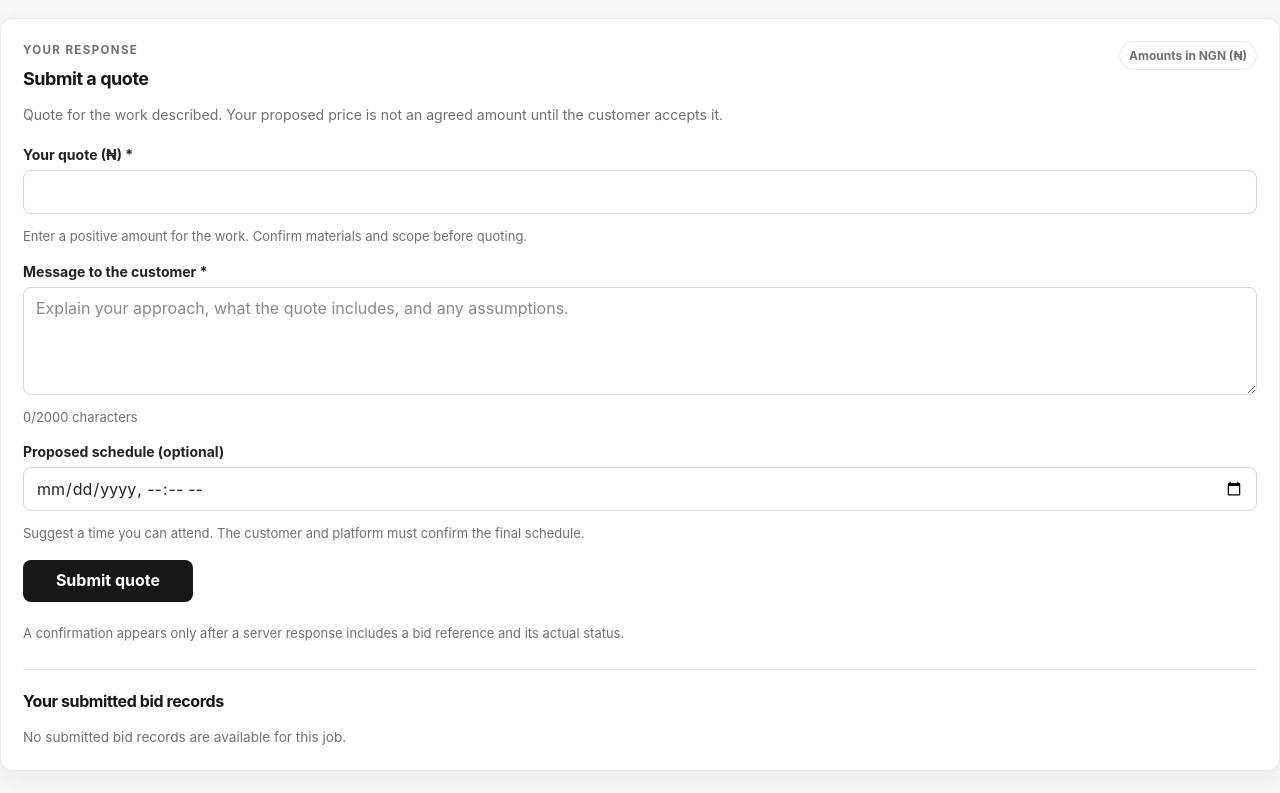
it: provider bid workflow › does not show success when the response lacks a server bid id or status
In the number field labelled "Your quote (₦) *": {"x": 640, "y": 192} [23,170,1257,214], type "24500"
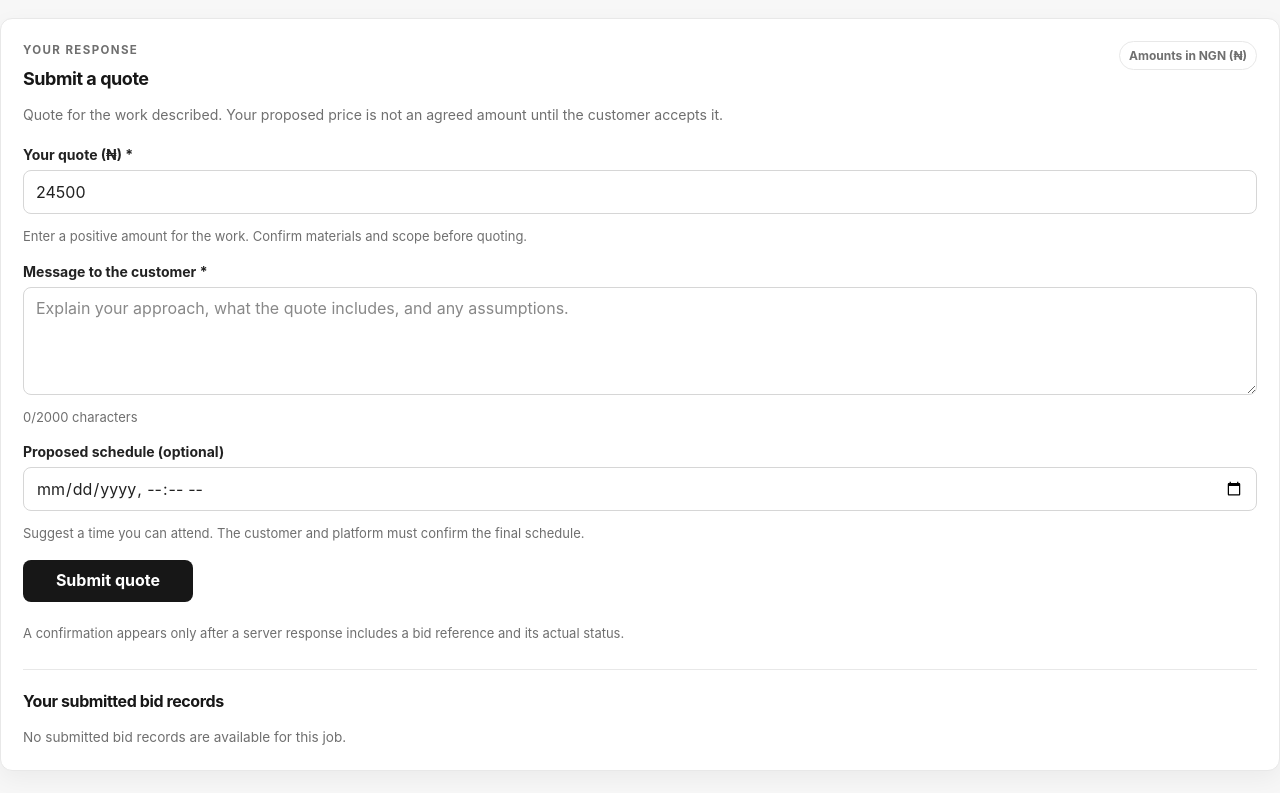
Replace the text in the text box labelled "Message to the customer *" with "I will inspect the pipe joint and include standard fittings.": {"x": 640, "y": 341} [23,287,1257,395]
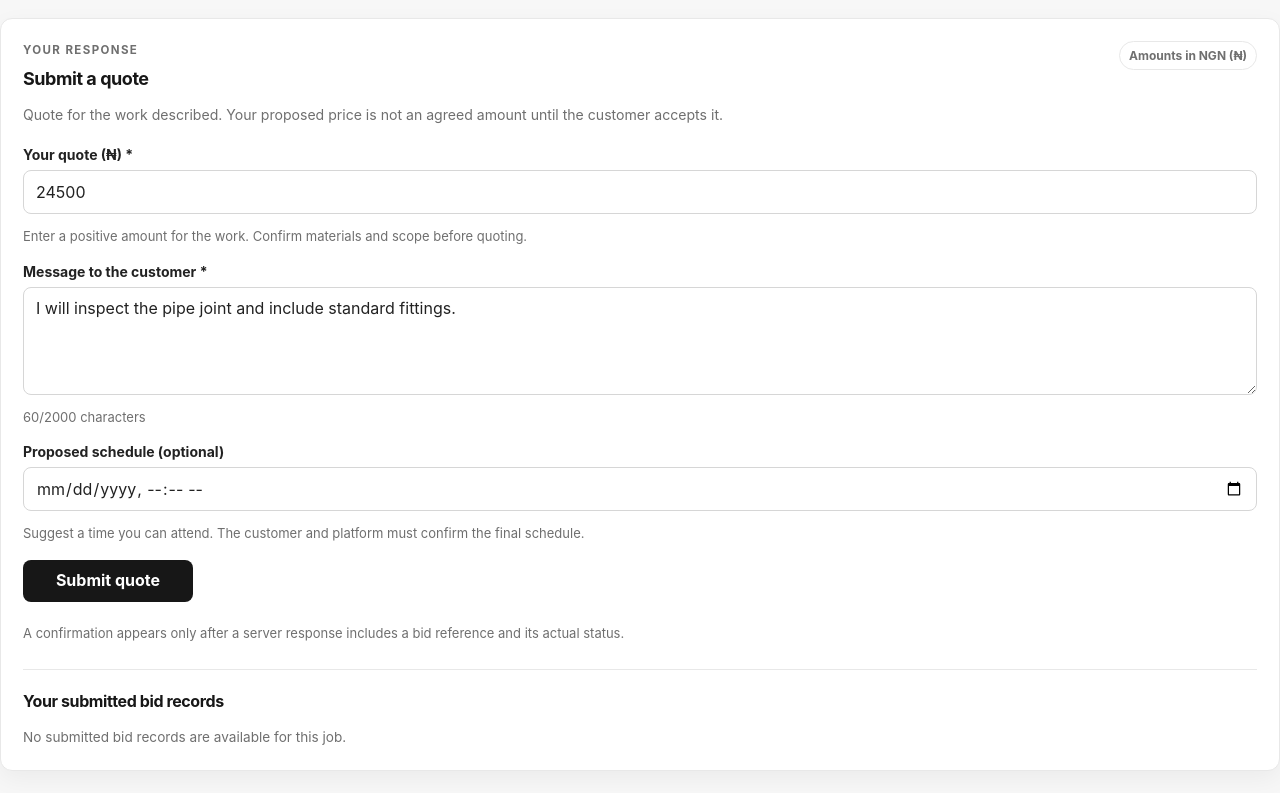
Click the button "Submit quote": {"x": 108, "y": 581} [23,560,193,602]
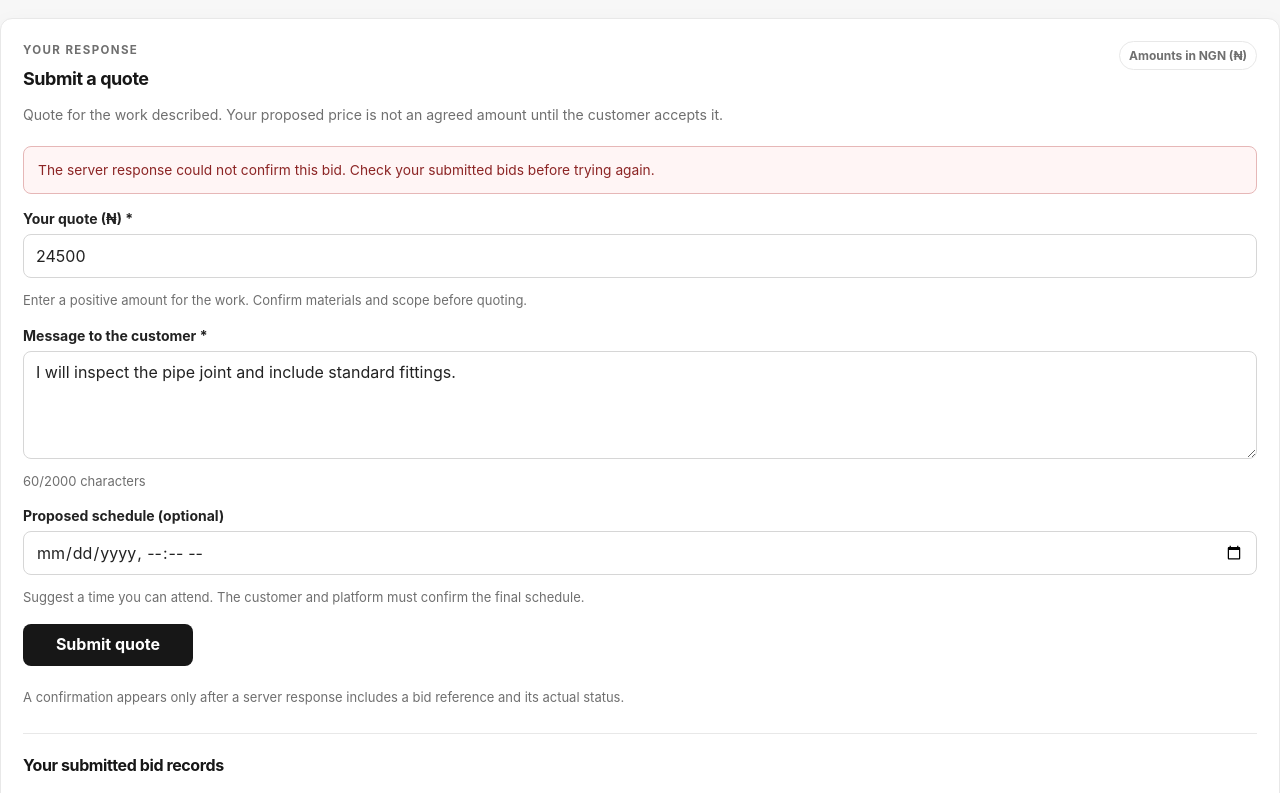
Now the message shows "could not confirm this bid", box [38,162,655,178]
